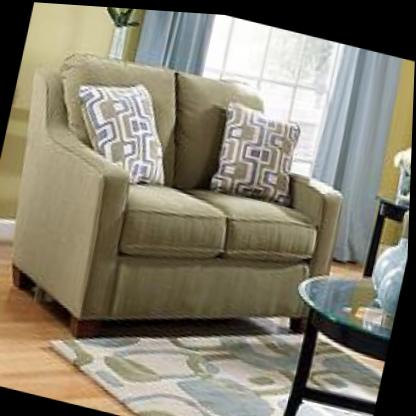Curtains: (310, 36, 406, 261), (133, 7, 215, 73)
Sofa: (0, 26, 373, 391)
